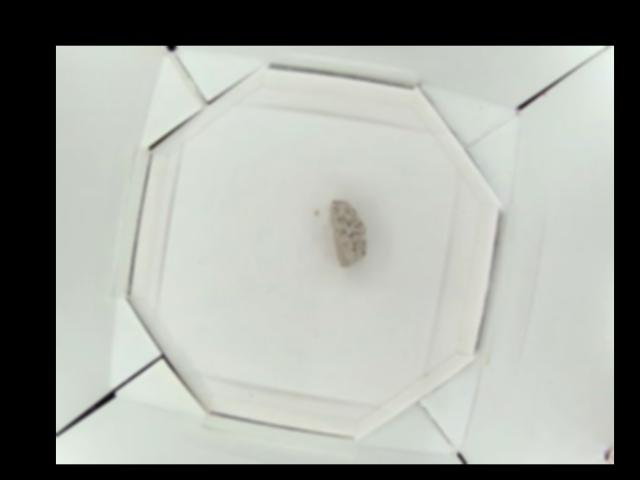China: (330, 198, 366, 264)
